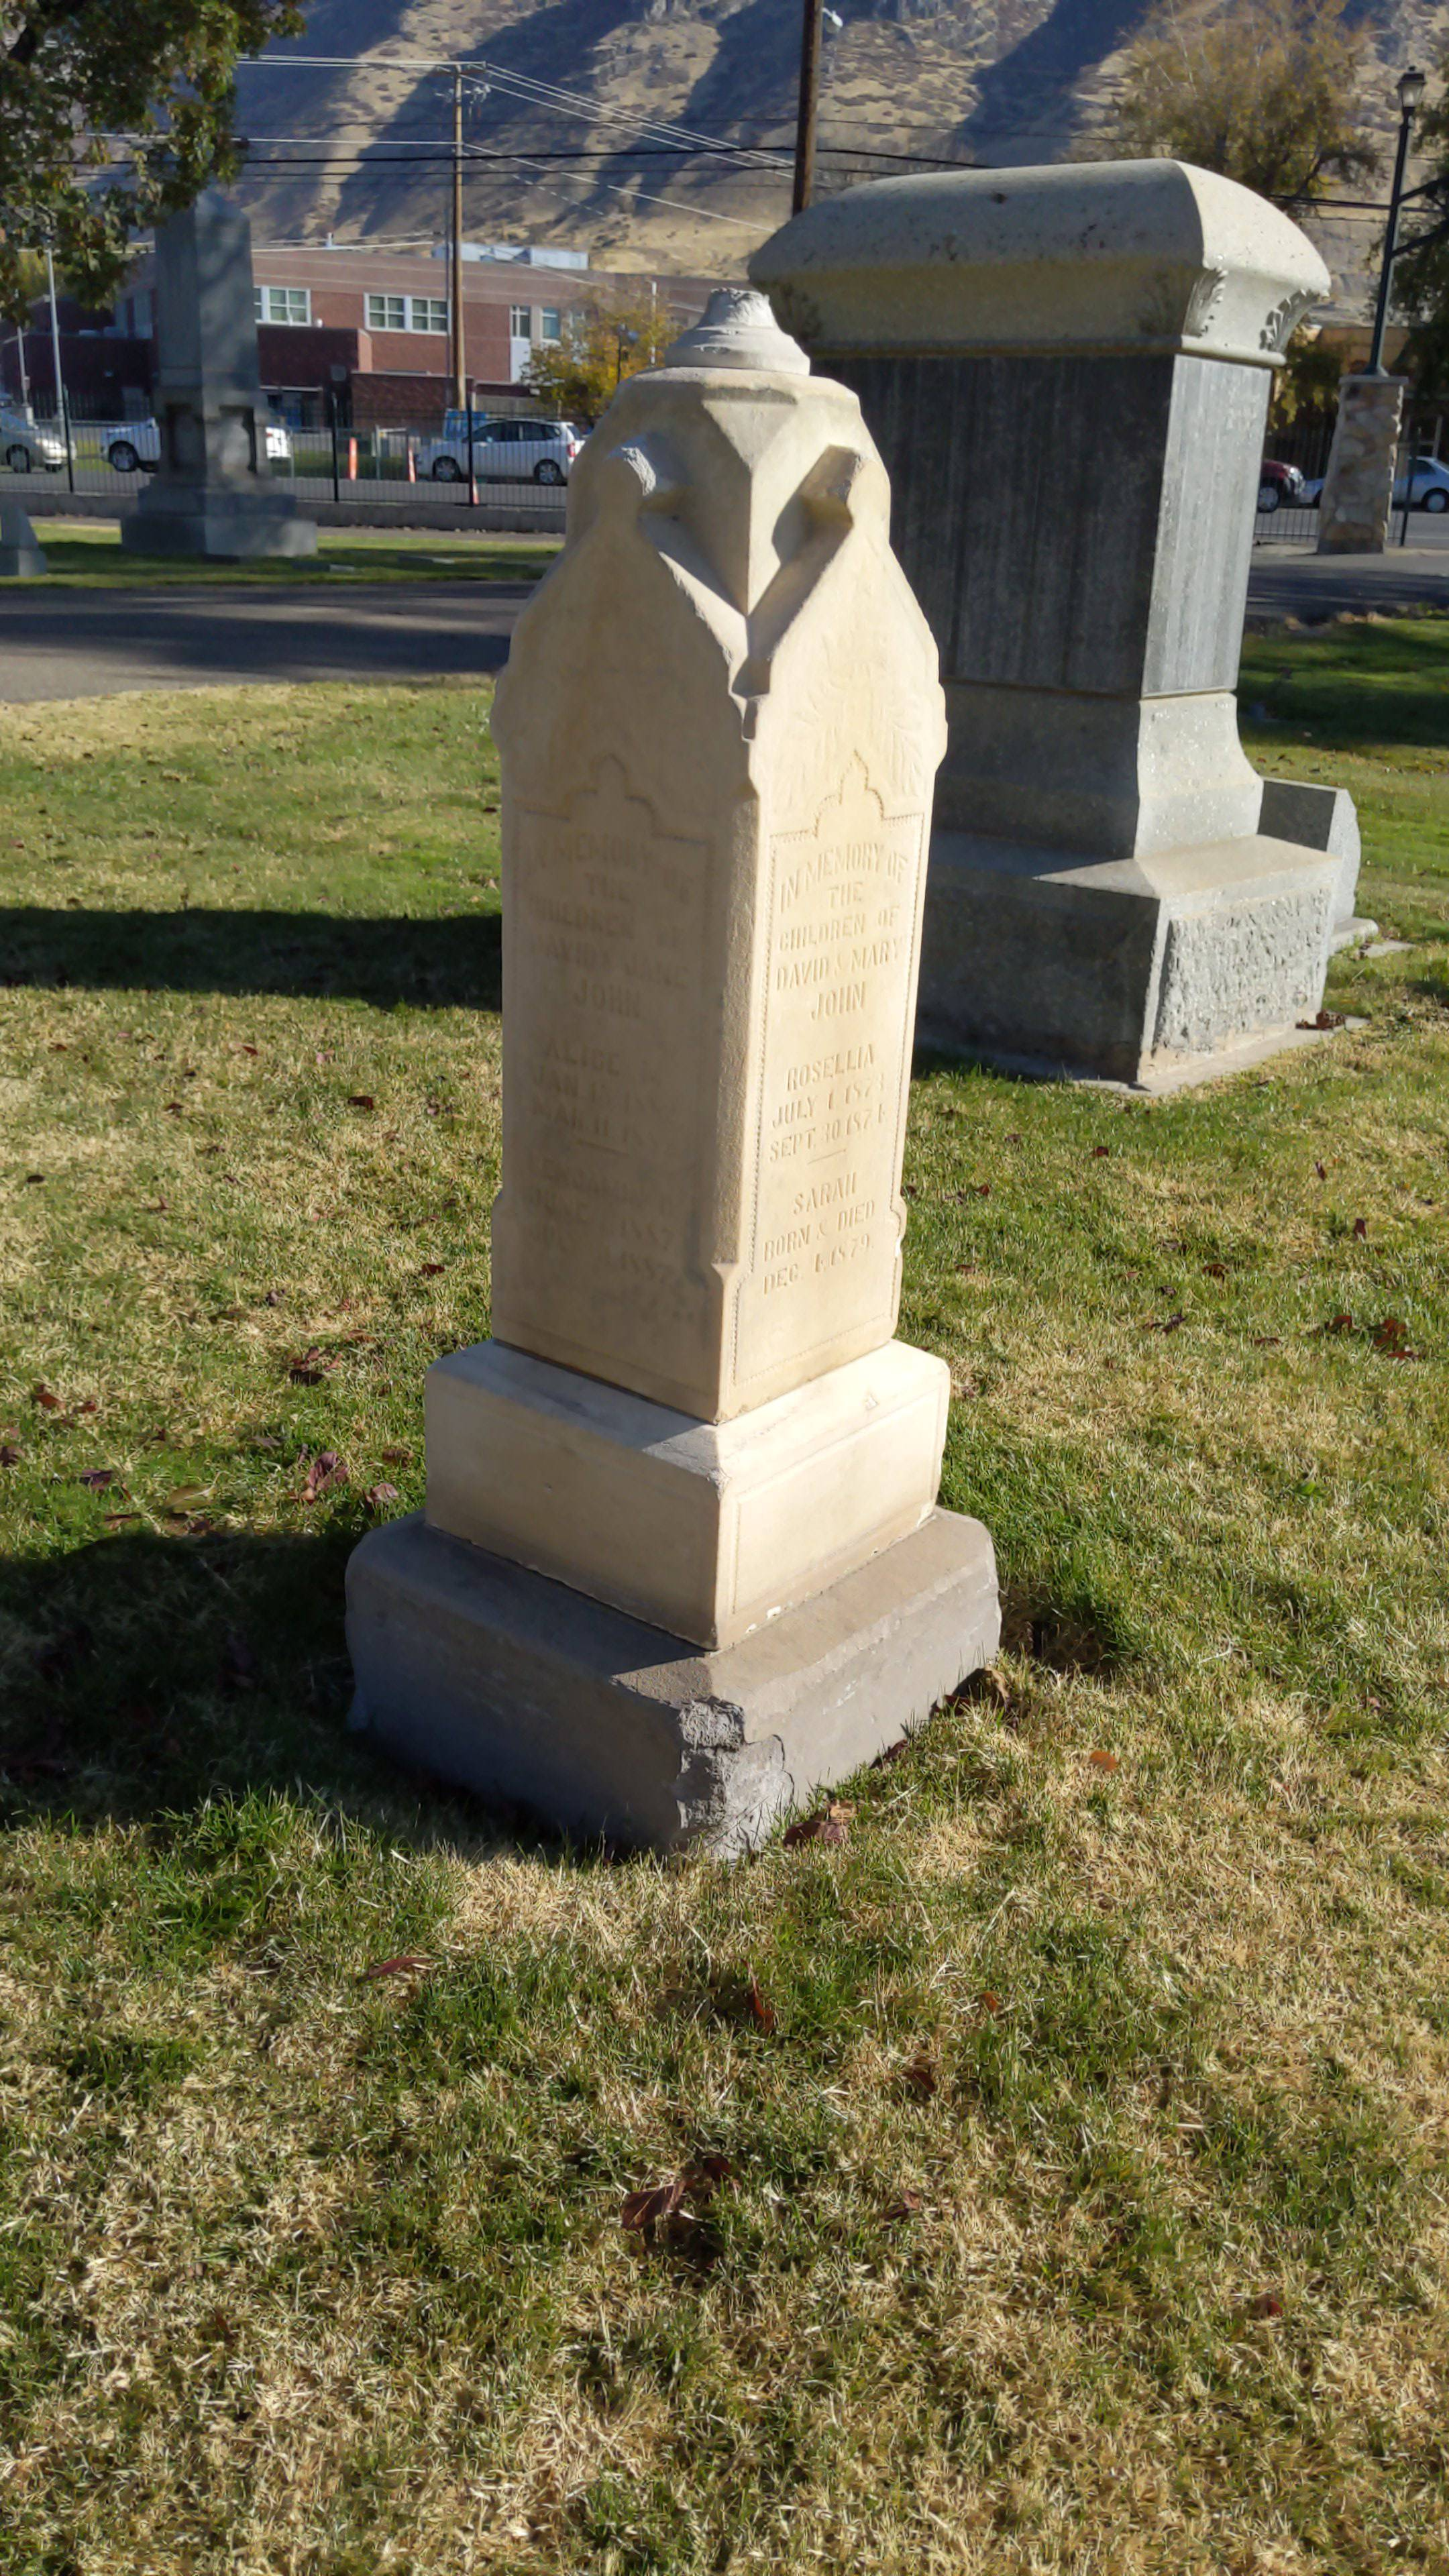obelisk: (425, 295, 945, 1624)
